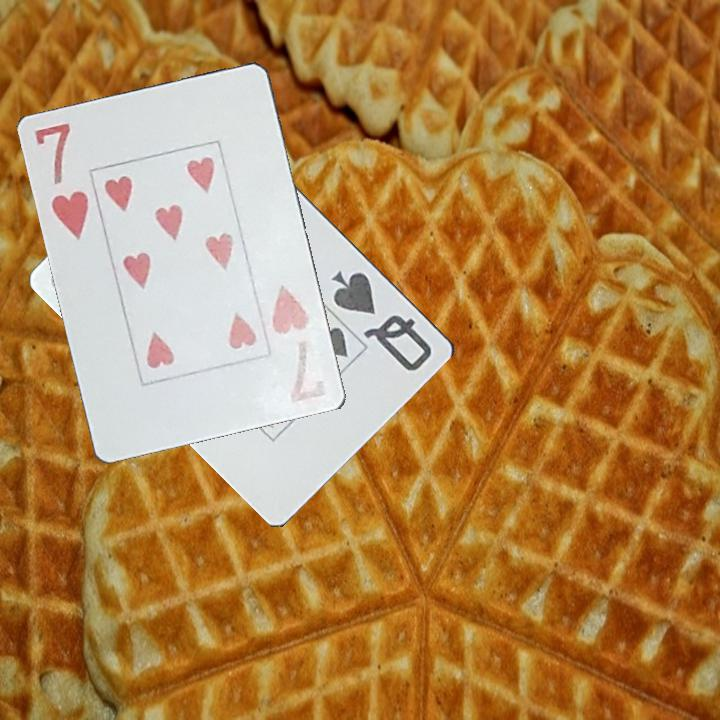7h: (268, 281, 331, 407), (31, 118, 92, 243)
Qs: (328, 266, 436, 374)
